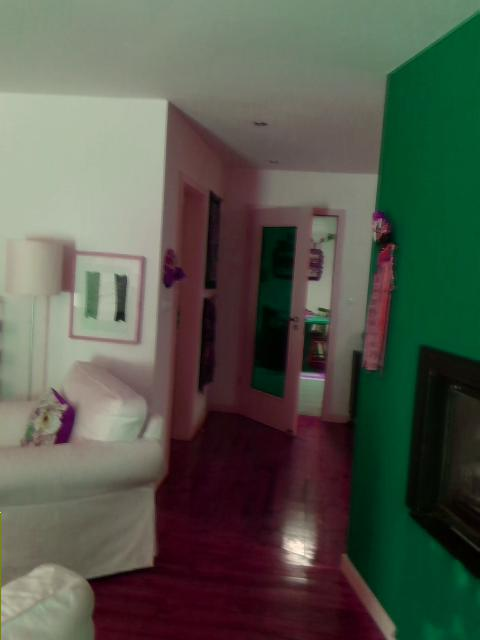semi_door: (229, 200, 346, 439)
